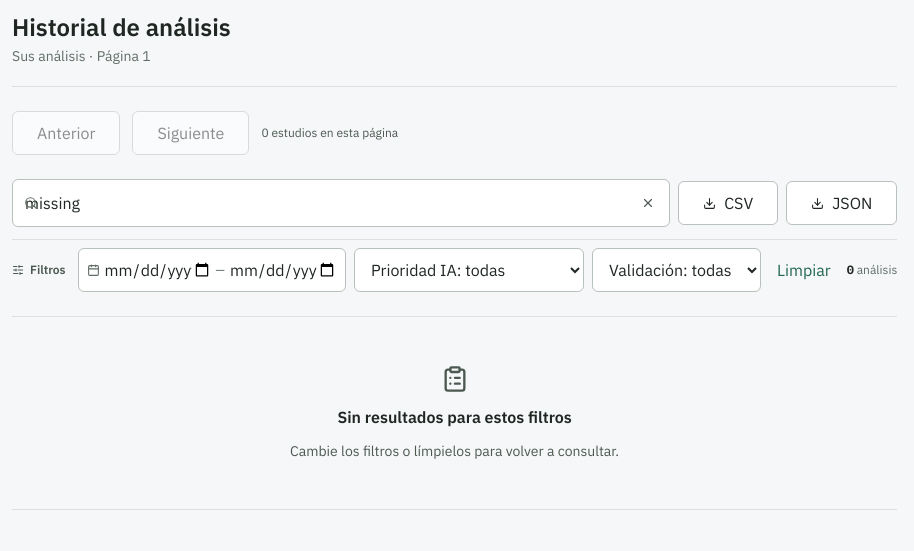
Test: keeps filters available when a search returns no studies
Expected: the heading "Sin resultados para estos filtros" is shown, [337,407,572,427]
Expected: the field named "Buscar estudios" is shown, [12,179,670,227]
Click the button "Limpiar" at point(804, 270), box [769,248,839,292]
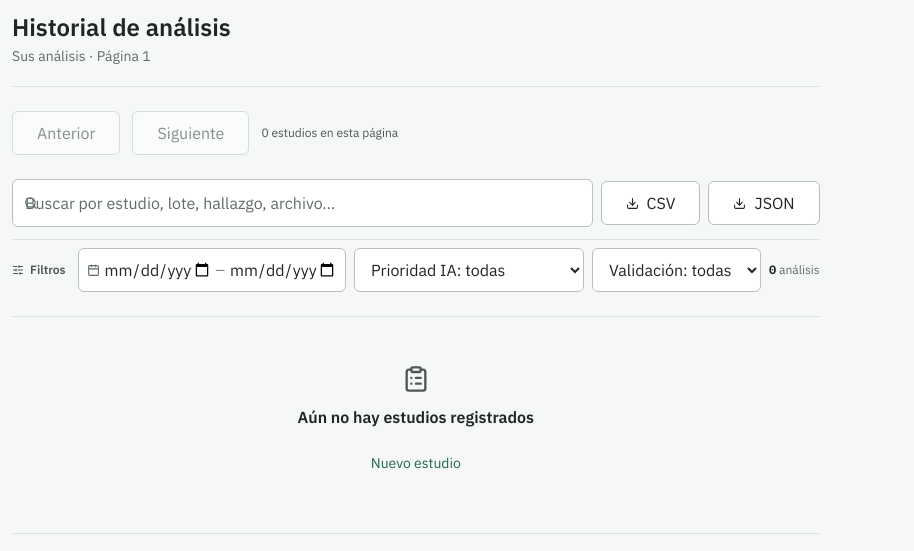
Expected: the heading "Aún no hay estudios registrados" is shown, [298,407,534,427]
